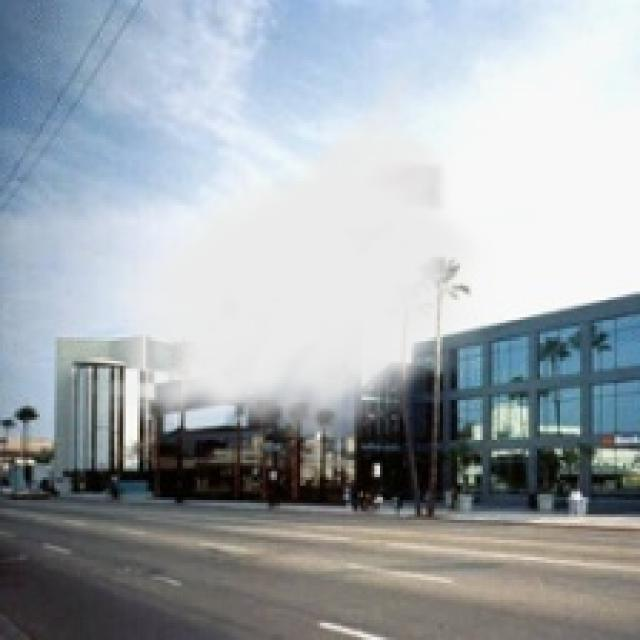smoke: (92, 51, 494, 452)
